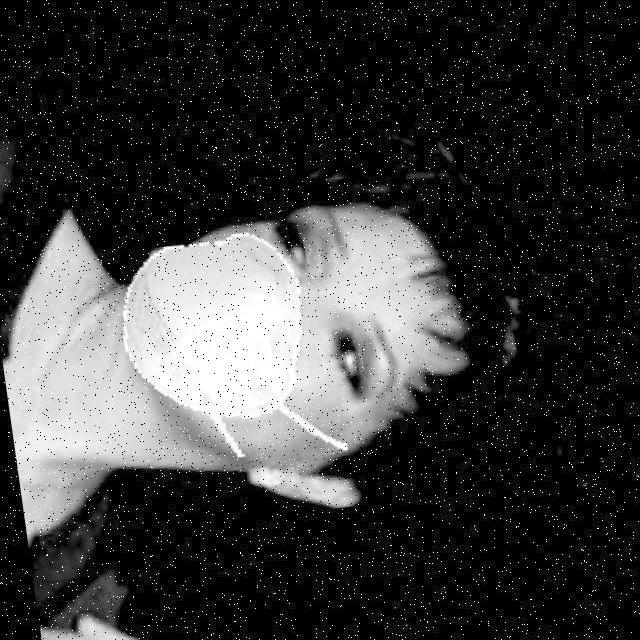mask: (132, 230, 318, 430)
no_gloves: (365, 204, 527, 486)
